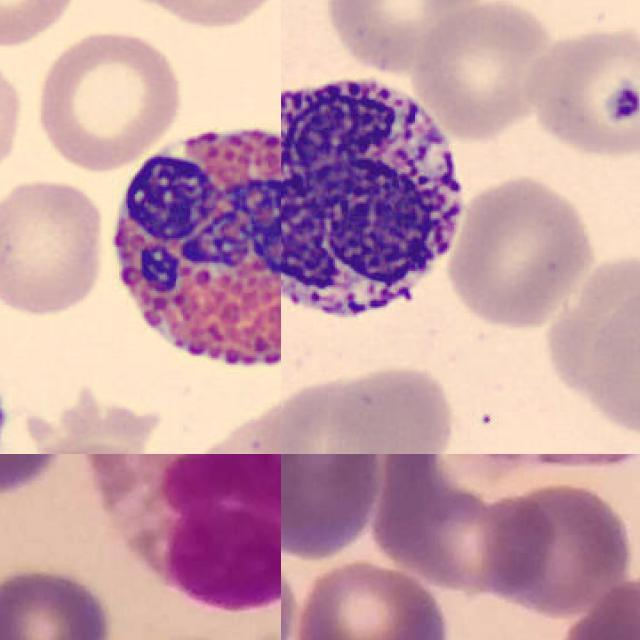Basophil: (281, 59, 475, 346)
Eosinophil: (97, 107, 281, 395), (89, 454, 281, 615)
RBC: (444, 170, 595, 331), (32, 28, 186, 173), (406, 0, 564, 138), (545, 242, 640, 440), (521, 20, 640, 161), (0, 174, 110, 319), (96, 0, 281, 86), (317, 0, 489, 79), (317, 360, 457, 454), (281, 373, 404, 454), (177, 409, 281, 454), (138, 0, 281, 28), (0, 0, 85, 47), (0, 49, 28, 186)
